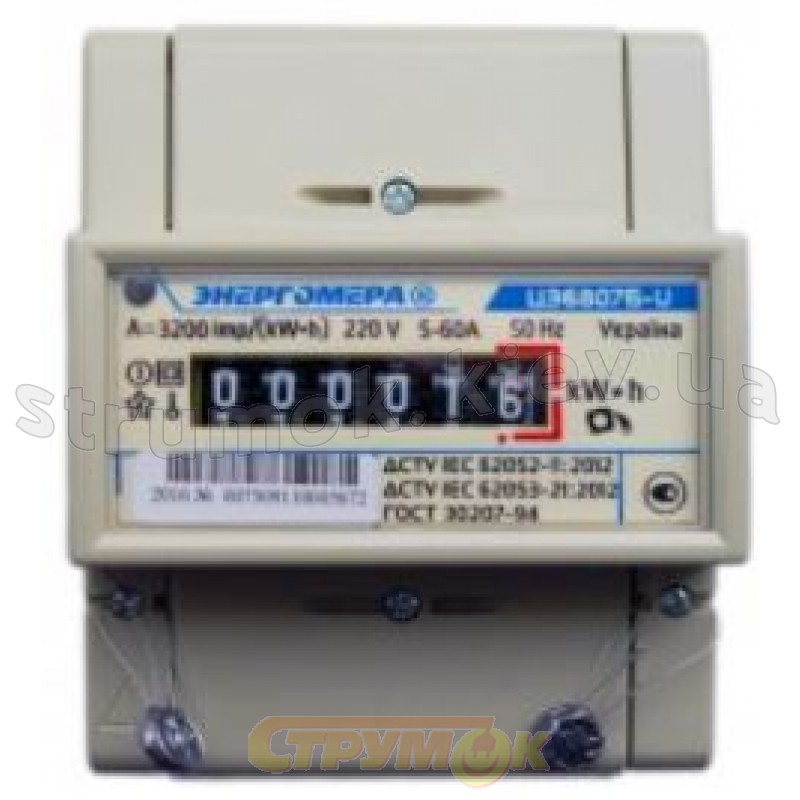counter: (62, 28, 755, 780)
counter_screen: (184, 345, 560, 437)
